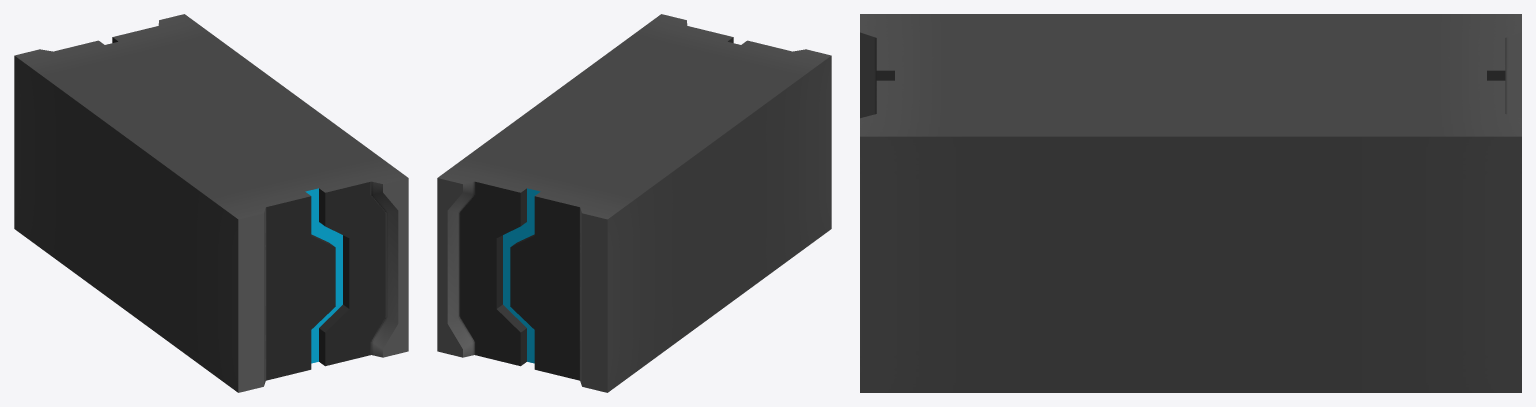
Rendered from Piller4.fbx.
The picture shows the model from 3 angles, left to right: view 1: azimuth 30°, elevation 25°; view 2: azimuth 150°, elevation 25°; view 3: azimuth 270°, elevation 25°; orthographic projection. The views are drawn at different scales.
Visible parts, largest first — view 1: Piller4; view 2: Piller4; view 3: Piller4.
Part boxes in pixels (x1=…): Piller4: x1=14, y1=14, x2=408, y2=392; Piller4: x1=437, y1=14, x2=831, y2=392; Piller4: x1=860, y1=14, x2=1521, y2=392.
Bounding box in the file's own units: 5.29 × 5.15 × 12.06.
